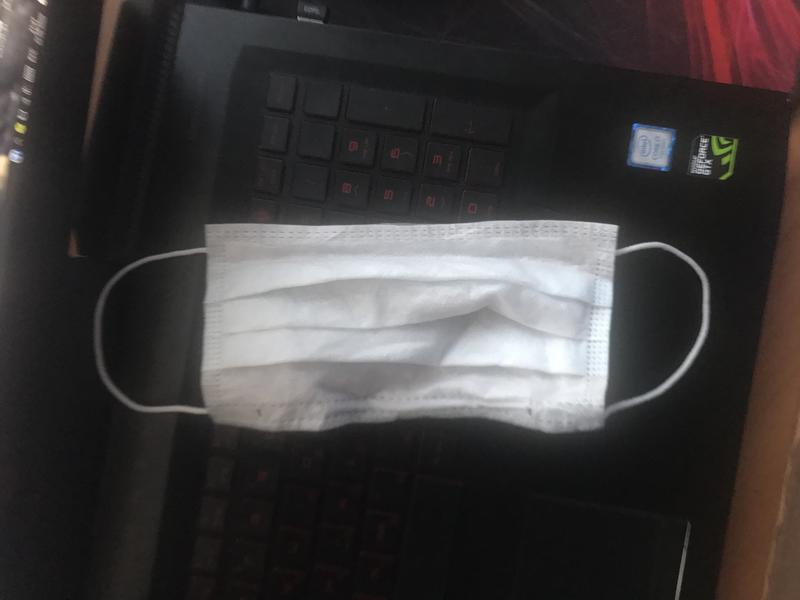medical_mask: (95, 219, 712, 436)
